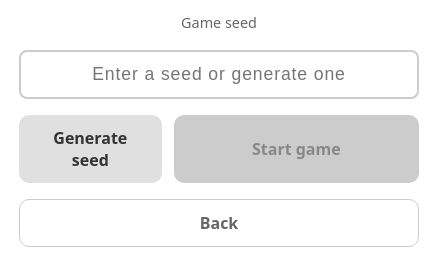
Scenario: CompetitionSetup › Start button is enabled when seed has content
Type "abc123" into the field labelled "Game seed" at point(219, 74), box [19,50,419,99]
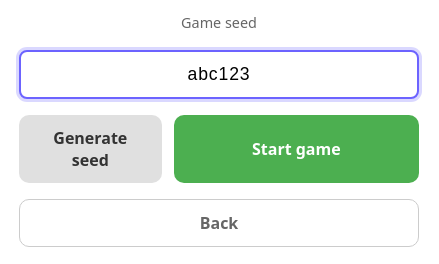
expect the button "Start game" is enabled: met, box [174,115,419,183]
